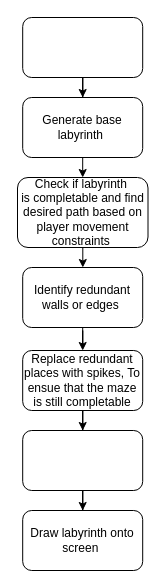
This 166x588 diagram has some shape labels left out. Each missing label, with the centre of its shape:
Define start and end points: point (82, 47)
Re-ensure that the labyrinth is completable: point (82, 460)
